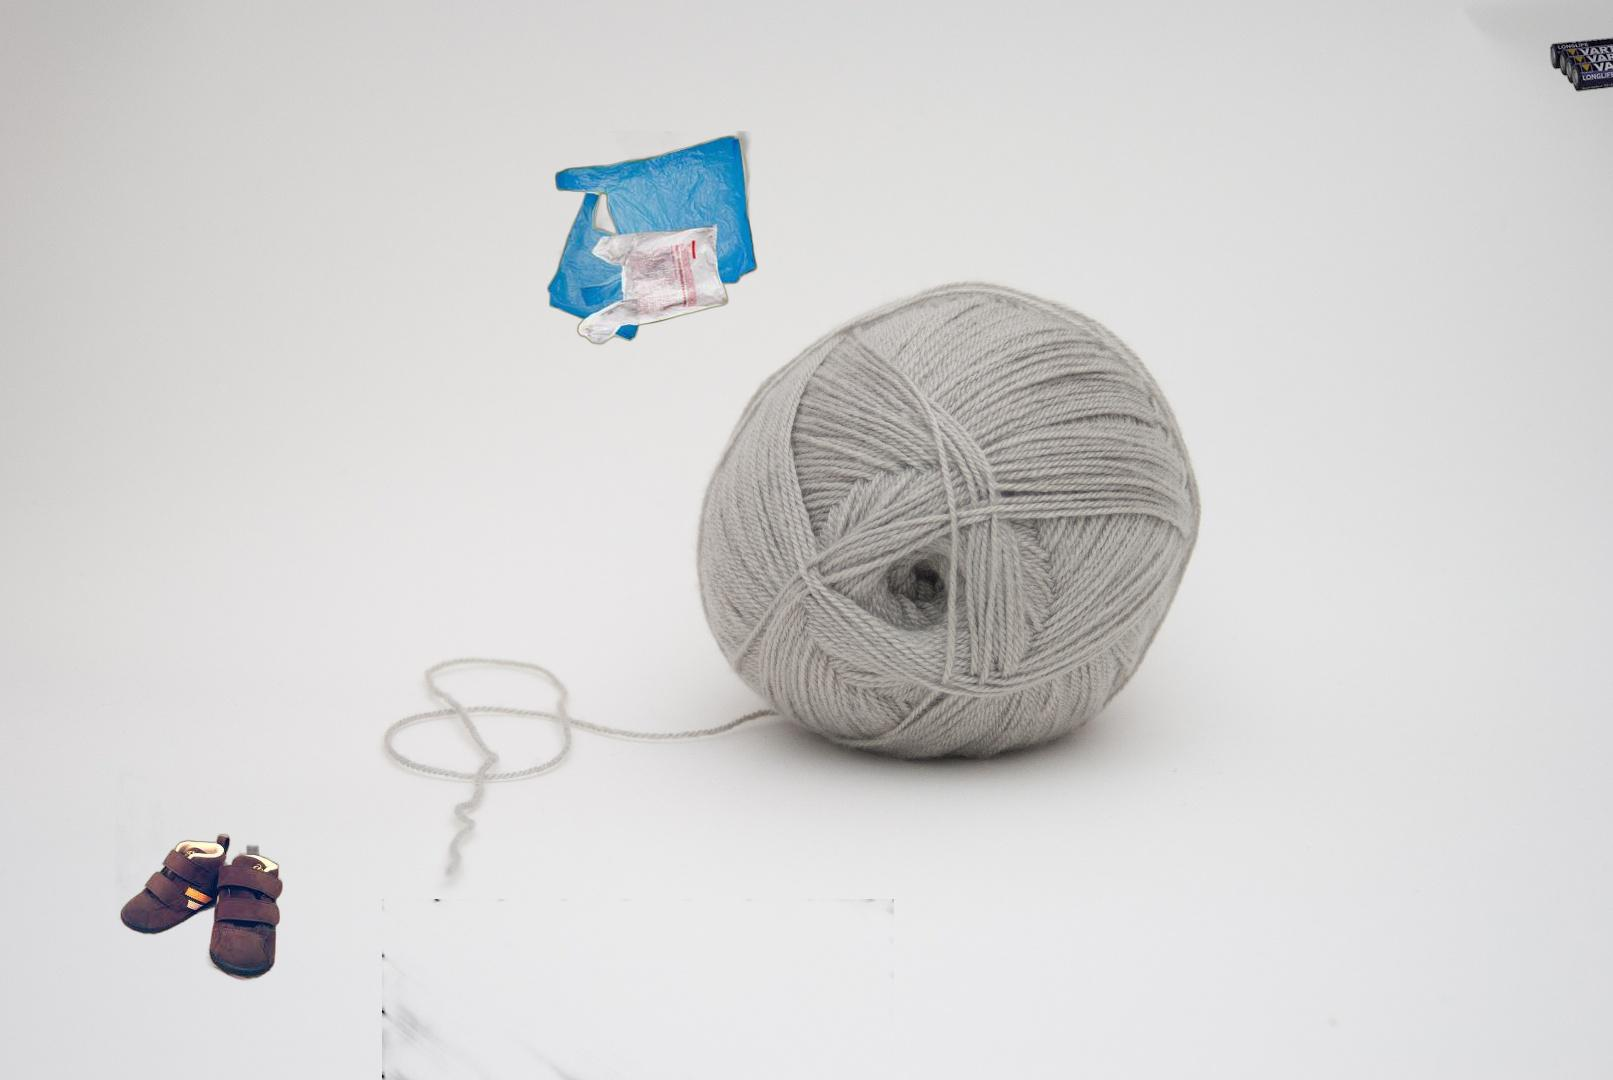battery: (1548, 20, 1613, 94)
glass: (382, 899, 895, 1080)
plastic-bag: (545, 131, 778, 347)
shoes: (115, 763, 305, 984)
